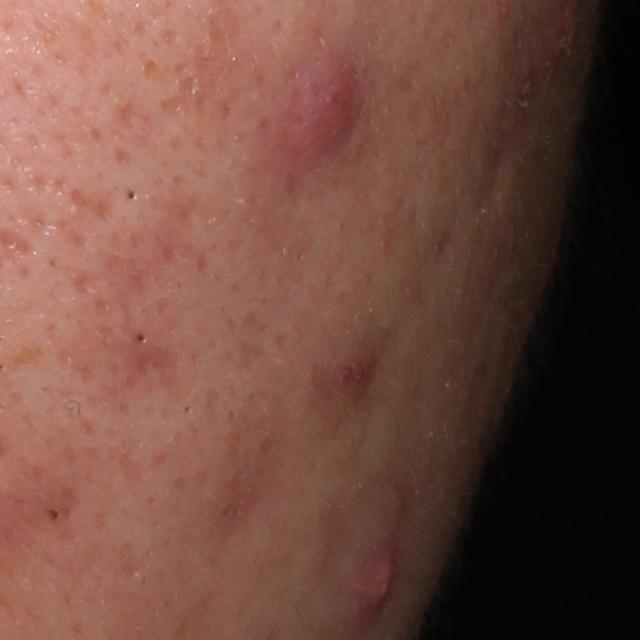atrophic_scar: (72, 188, 212, 313), (203, 406, 268, 558), (463, 132, 503, 235)
comedo: (122, 184, 142, 204), (45, 507, 64, 526), (131, 327, 147, 346)
papule: (279, 55, 371, 150)
